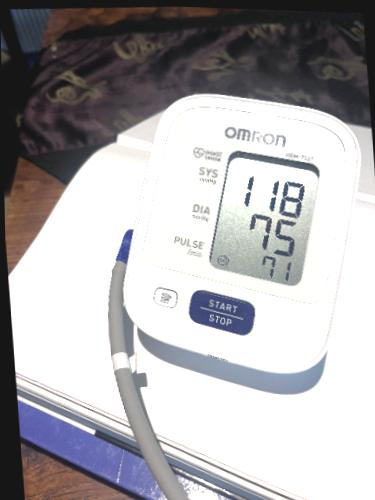bpm: (207, 148, 321, 285)
